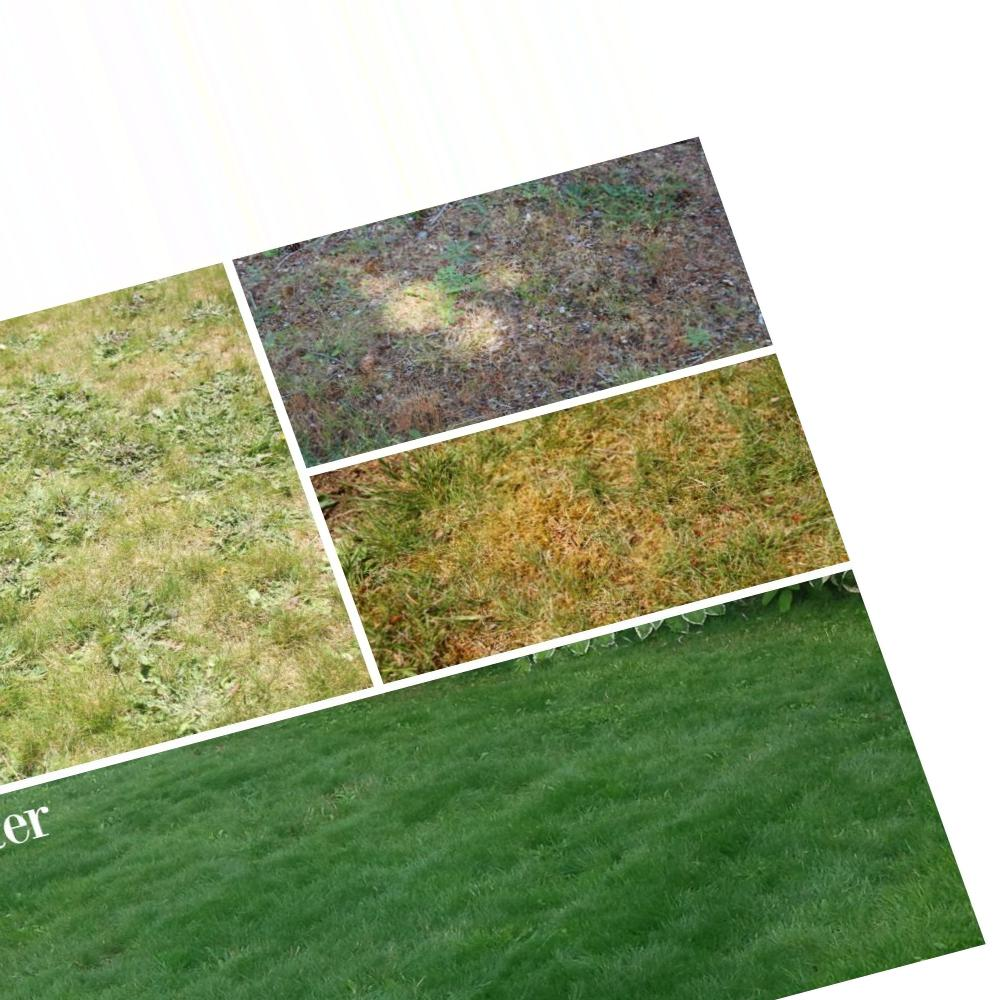patch: (495, 481, 632, 572), (64, 515, 187, 591), (377, 270, 488, 345)
